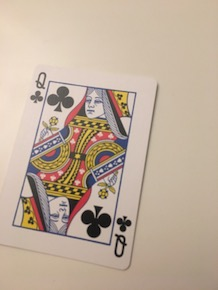QueenOfClubs: (4, 60, 163, 274)
